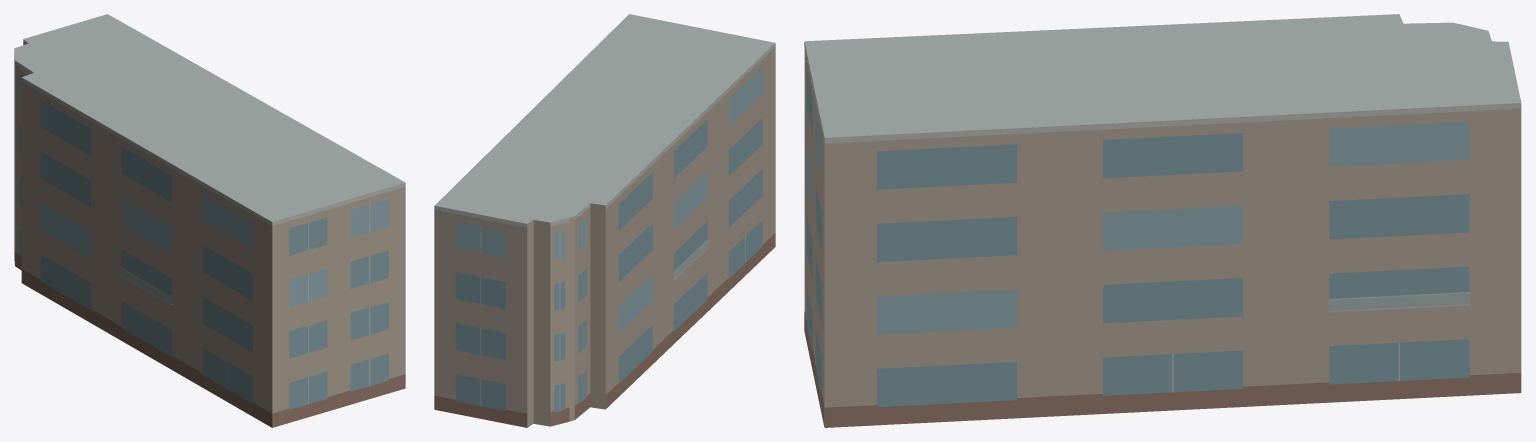
File: survey-upis-32641021.glb
3 renders of one model, left to right at view 1: azimuth 30°, elevation 25°; view 2: azimuth 150°, elevation 25°; view 3: azimuth 270°, elevation 25°, orthographic. The views are drawn at different scales.
Visible parts, largest first — view 1: survey-upis-32641021.tmp; view 2: survey-upis-32641021.tmp; view 3: survey-upis-32641021.tmp.
Part boxes in pixels (bbox=[...]): survey-upis-32641021.tmp: bbox=[14, 14, 405, 427]; survey-upis-32641021.tmp: bbox=[434, 14, 775, 427]; survey-upis-32641021.tmp: bbox=[804, 14, 1521, 427].
Size of the model in its own units: 11.37 by 12.4 by 27.79.
